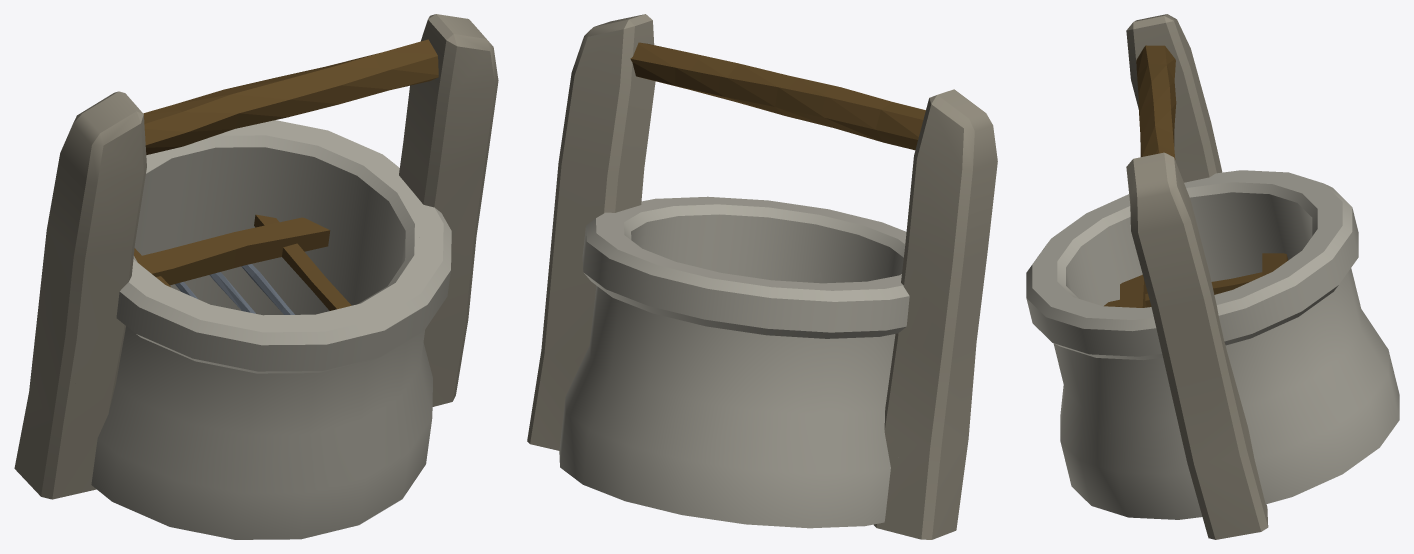
The model's file is well_root.fbx.
3 views of the same model, side by side, from view 1: azimuth 30°, elevation 25°; view 2: azimuth 150°, elevation 25°; view 3: azimuth 270°, elevation 25° (orthographic). The views are drawn at different scales.
Parts seen in each view (by area): view 1: well_sh_10, well_sh_6, well_sh_22, well_sh_16, well_sh_27, well_sh_13, well_sh_2, well_sh_19, well_sh_26, well_sh_17, well_sh_11, well_sh_15 (+11 smaller); view 2: well_sh_5, well_sh_22, well_sh_21, well_sh_18, well_sh_13, well_sh_2, well_sh_26, well_sh_17, well_sh_7, well_sh_25, well_sh_8, well_sh_10 (+5 smaller); view 3: well_sh_18, well_sh_4, well_sh_21, well_sh_10, well_sh_26, well_sh_22, well_sh_19, well_sh_27, well_sh_24, well_sh_17, well_sh_15, well_sh_13 (+8 smaller).
Boxes of the visible parts, left/top/right/bottom form: well_sh_10: left=61, top=267, right=371, bottom=432; well_sh_6: left=174, top=379, right=380, bottom=539; well_sh_22: left=135, top=120, right=307, bottom=267; well_sh_16: left=14, top=389, right=196, bottom=527; well_sh_27: left=252, top=179, right=386, bottom=314; well_sh_13: left=273, top=14, right=482, bottom=115; well_sh_2: left=50, top=91, right=166, bottom=241; well_sh_19: left=400, top=99, right=492, bottom=246; well_sh_26: left=300, top=115, right=417, bottom=261; well_sh_17: left=352, top=237, right=451, bottom=385; well_sh_11: left=58, top=165, right=146, bottom=320; well_sh_15: left=373, top=377, right=429, bottom=513; well_sh_5: left=639, top=370, right=942, bottom=528; well_sh_22: left=590, top=238, right=780, bottom=405; well_sh_21: left=764, top=256, right=974, bottom=406; well_sh_18: left=527, top=343, right=644, bottom=505; well_sh_13: left=570, top=14, right=792, bottom=124; well_sh_2: left=900, top=89, right=997, bottom=255; well_sh_26: left=548, top=134, right=667, bottom=282; well_sh_17: left=679, top=196, right=839, bottom=283; well_sh_7: left=806, top=382, right=971, bottom=478; well_sh_25: left=834, top=222, right=974, bottom=356; well_sh_8: left=771, top=76, right=913, bottom=256; well_sh_10: left=820, top=212, right=978, bottom=363; well_sh_18: left=1229, top=335, right=1399, bottom=536; well_sh_4: left=1072, top=370, right=1245, bottom=507; well_sh_21: left=1180, top=154, right=1318, bottom=283; well_sh_10: left=1026, top=194, right=1149, bottom=307; well_sh_26: left=1188, top=242, right=1311, bottom=393; well_sh_22: left=1281, top=182, right=1368, bottom=345; well_sh_19: left=1111, top=232, right=1209, bottom=370; well_sh_27: left=1229, top=298, right=1331, bottom=457; well_sh_24: left=1109, top=423, right=1235, bottom=539; well_sh_17: left=1026, top=277, right=1124, bottom=378; well_sh_15: left=1064, top=374, right=1125, bottom=516; well_sh_13: left=1126, top=102, right=1198, bottom=237.
Bounding box in the file's own units: 3377 × 3419 × 2970.
